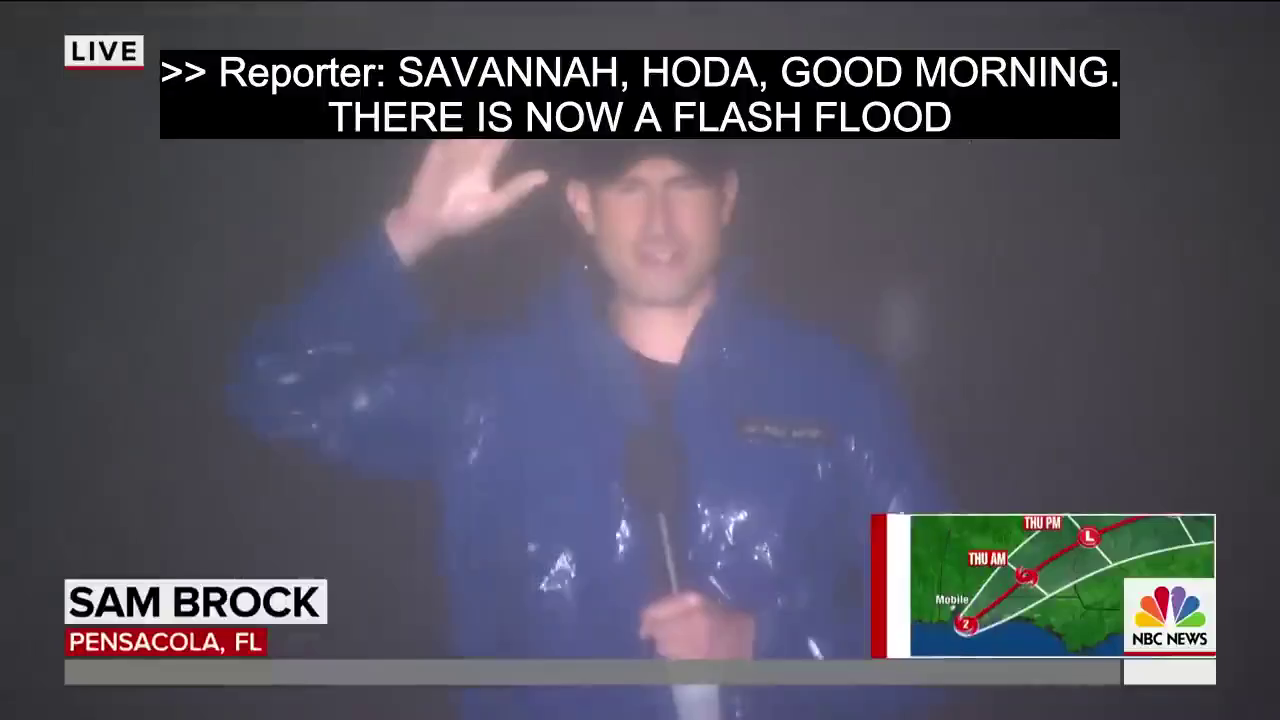caption: (159, 51, 1119, 141)
speaker location: (65, 626, 268, 658)
speaker name: (65, 579, 327, 625)
